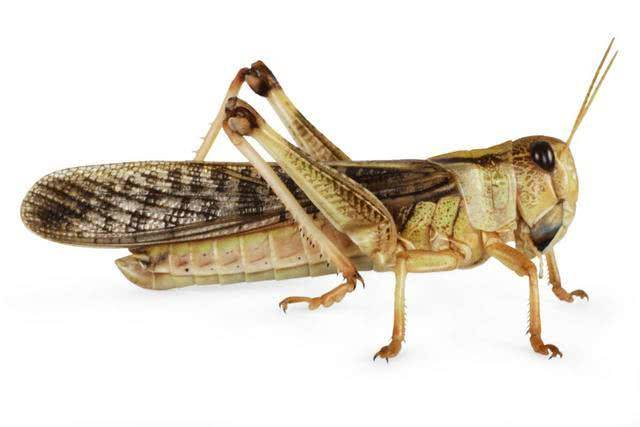huangchong: (23, 79, 610, 347)
